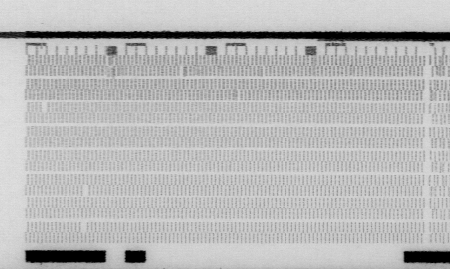Broken hole: (39, 101, 51, 114), (80, 183, 91, 197), (78, 220, 90, 232)
Oblique printing: (434, 57, 450, 94), (432, 160, 450, 185), (103, 55, 120, 80), (440, 207, 450, 232), (176, 65, 190, 78), (257, 65, 269, 78), (233, 89, 244, 101)
